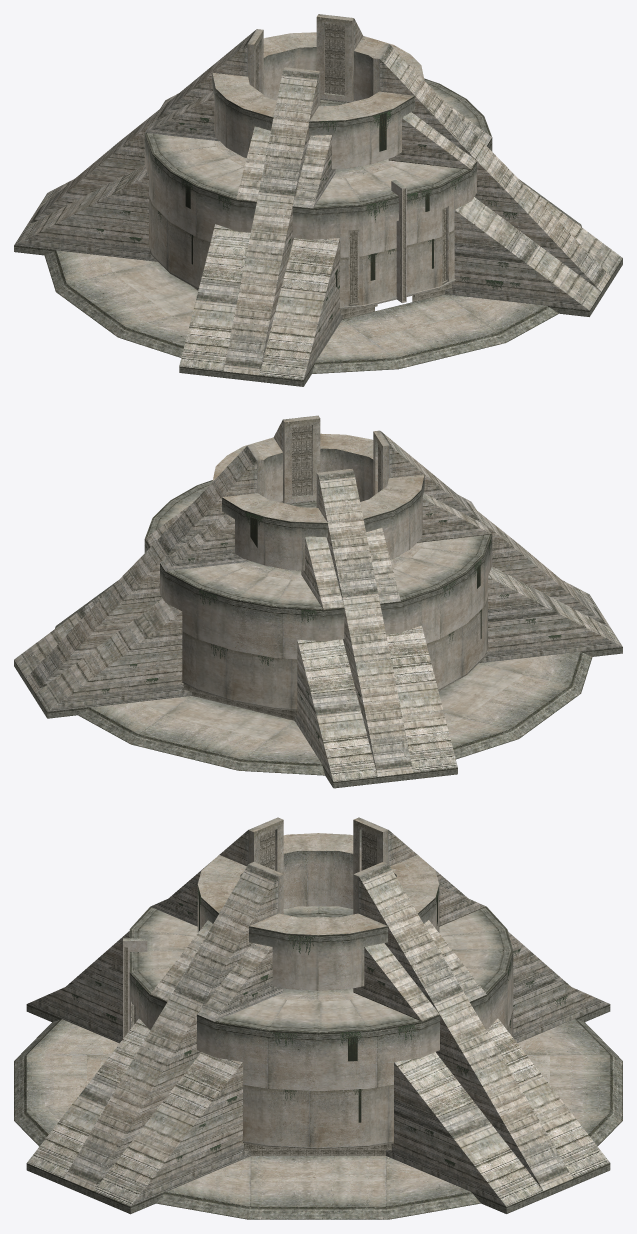
File: thm_yavn_temple_blueleaf_cluster_r0_mesh_r0_l0.fbx
3 views of the same model, one above another, from view 1: azimuth 30°, elevation 25°; view 2: azimuth 150°, elevation 25°; view 3: azimuth 270°, elevation 25° (orthographic). The views are drawn at different scales.
Parts seen in each view (by area): view 1: mesh_node; view 2: mesh_node; view 3: mesh_node.
Part boxes in pixels (x1,y1,x2,y2): mesh_node: [14, 14, 622, 386]; mesh_node: [14, 415, 622, 788]; mesh_node: [14, 817, 622, 1219].
Size of the model in its own units: 149 by 66.06 by 149.
